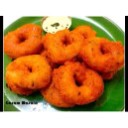vada: (54, 62, 103, 102), (83, 36, 124, 72), (11, 56, 51, 90), (4, 23, 41, 55), (47, 28, 84, 60)
